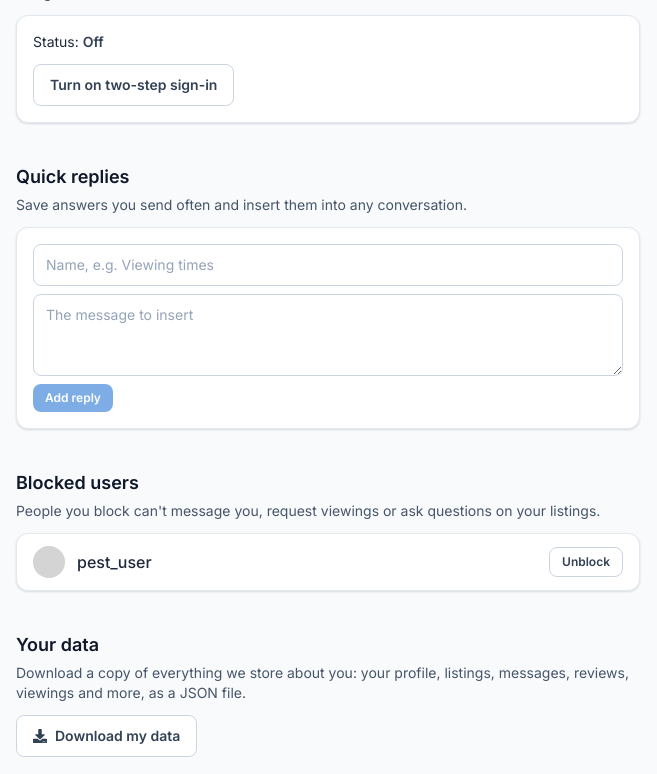
Test: Settings page › lists blocked users and unblocks them
(page scrolled)
Check: the text "pest_user" is shown, box [77,552,152,572]
Click the button "Unblock" at [586, 562], box [549,547,623,577]
(page scrolled)
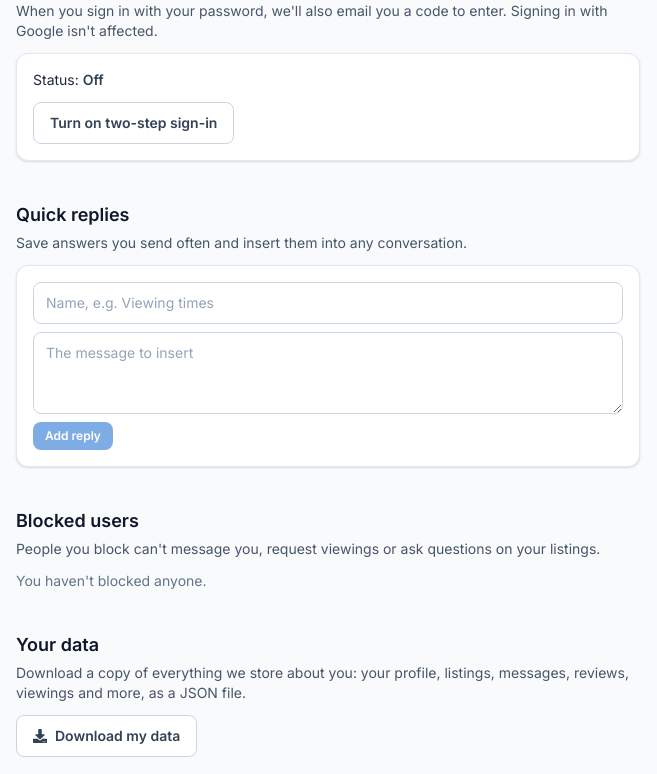
Check: the text "You haven't blocked anyone." is shown, box [16,572,206,589]
